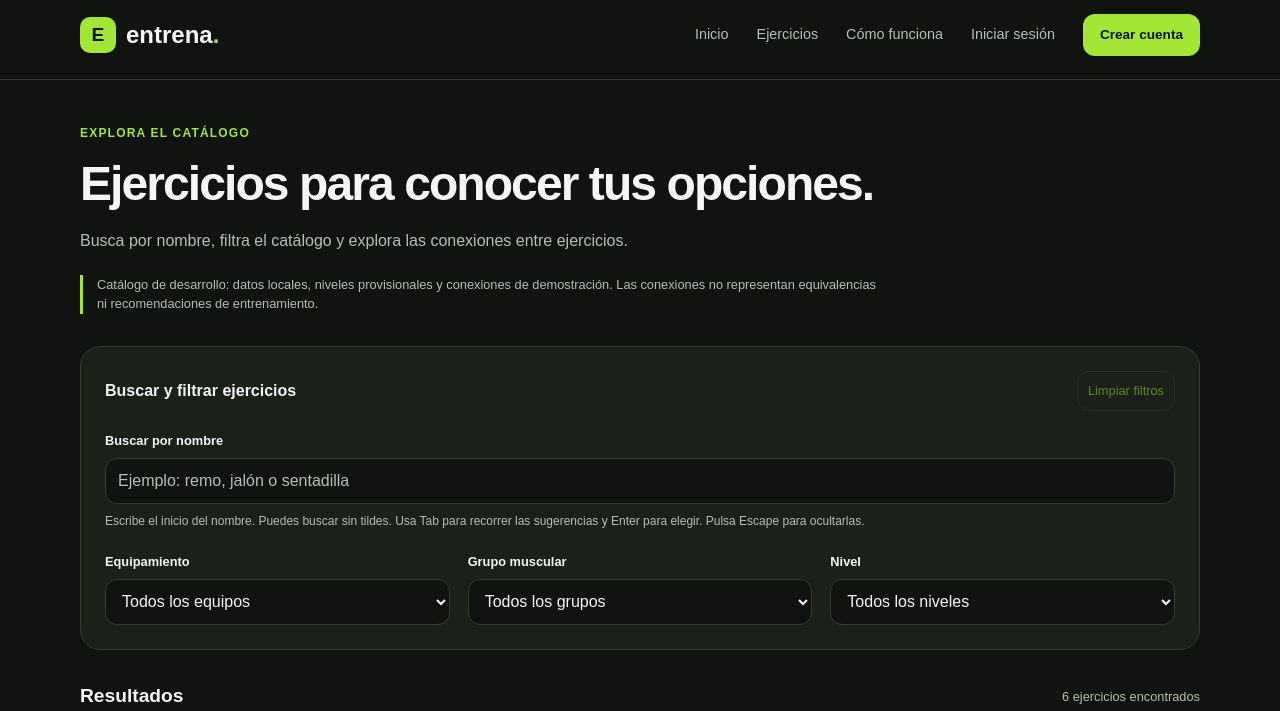
Test: CatalogComponent › muestra el estado vacío para una búsqueda sin coincidencias
This screenshot has width=1280, height=711.
Type "xyz" into the search field with id "exercise-search" at {"x": 640, "y": 481}, box x1=105 y1=458 x2=1175 y2=504
(page scrolled)
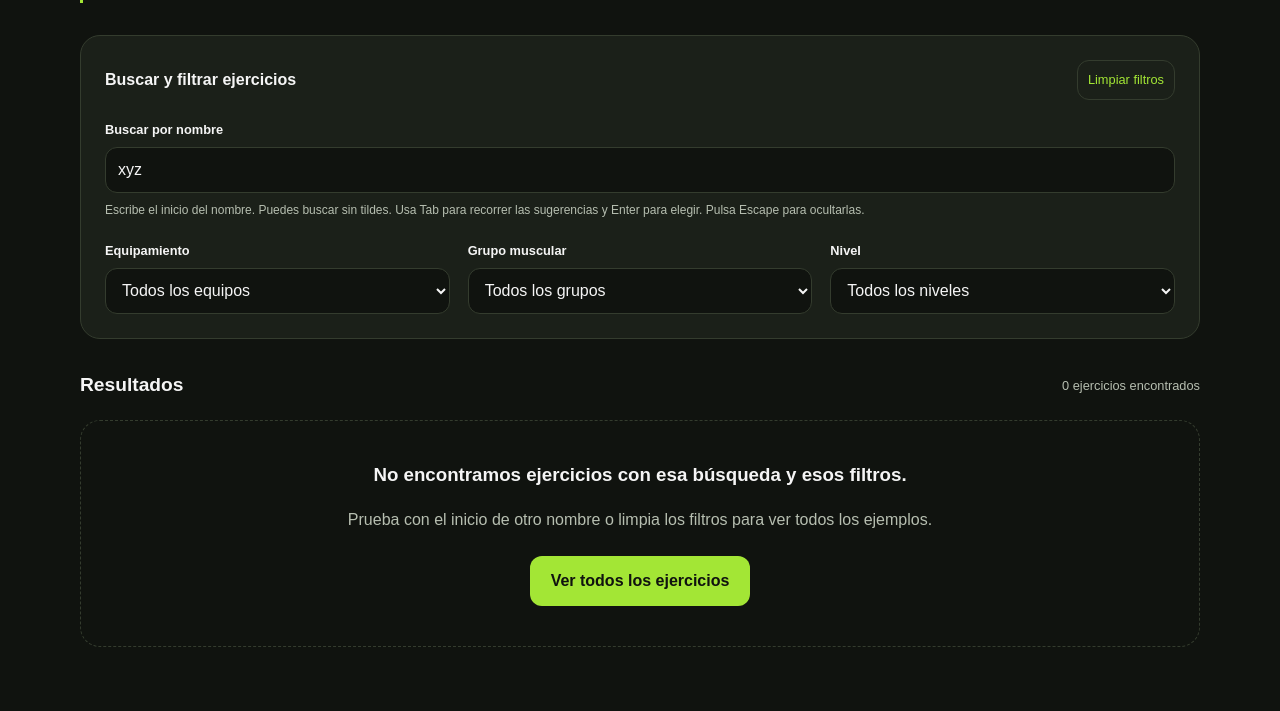
Check: the element with class "empty-state" shows "No encontramos ejercicios con esa búsqueda y esos filtros.", box x1=373 y1=464 x2=907 y2=485
